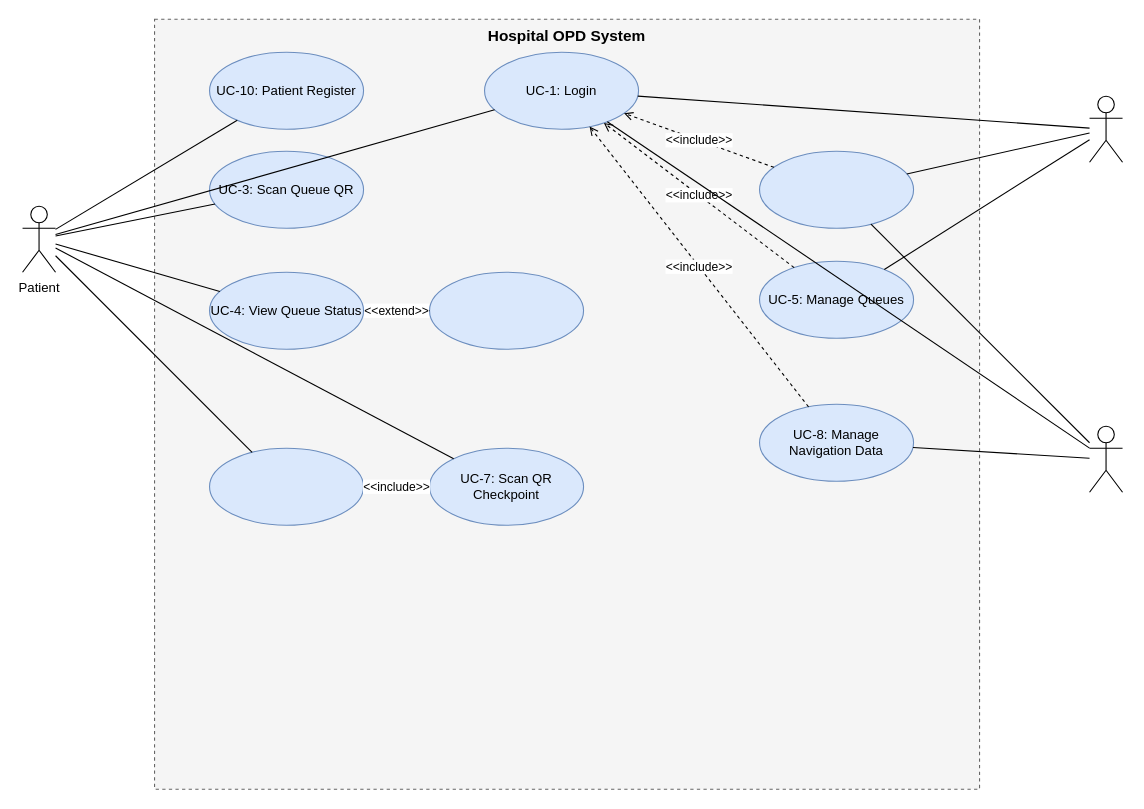
Some shapes in this 1144 by 809 pixel diagram are drawn without their labels. Here are the shapes that lost their labels. From the top down, the box of each, then its label:
(1088, 95, 1123, 162): Staff
(758, 150, 914, 228): UC-2: Generate Queue QR
(428, 271, 584, 349): UC-9: Receive Queue Notification
(1088, 425, 1123, 492): Admin
(208, 447, 364, 525): UC-6: View Map and Navigate
